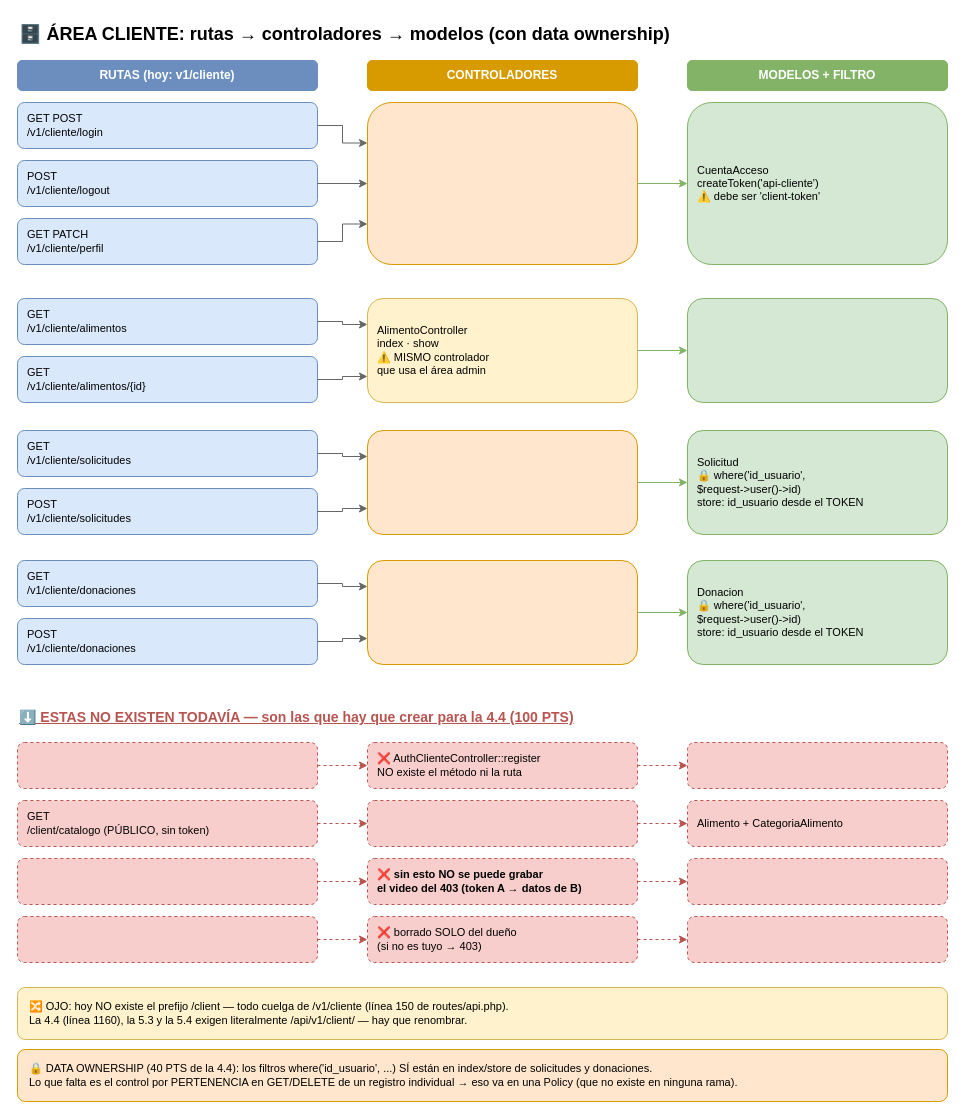
The diagram is 965 pixels wide and 1119 high, and some of its shapes have lost their labels. The shapes that lost their labels are listed below. From the top down, each one's centre as x and y in pixels, then its label:
At point (502, 183): "AuthClienteController login · in · out perfil · actualizarPerfil".
At point (817, 350): "Alimento + CategoriaAlimento (sin filtro de usuario: es catálogo compartido)".
At point (502, 482): "ClienteSolicitudController index · store".
At point (502, 612): "ClienteDonacionController index · store".
At point (167, 765): "POST /client/register".
At point (817, 765): "CuentaAcceso (alta pública, sin token)".
At point (502, 823): "❌ fuera de auth:sanctum para la 5.3 (front público)".
At point (167, 881): "GET /client/mis-registros/{id}".
At point (817, 881): "Solicitud | Donacion 🔒 pertenencia al dueño".
At point (167, 939): "DELETE /client/mis-registros/{id}".
At point (817, 939): "Solicitud | Donacion".
